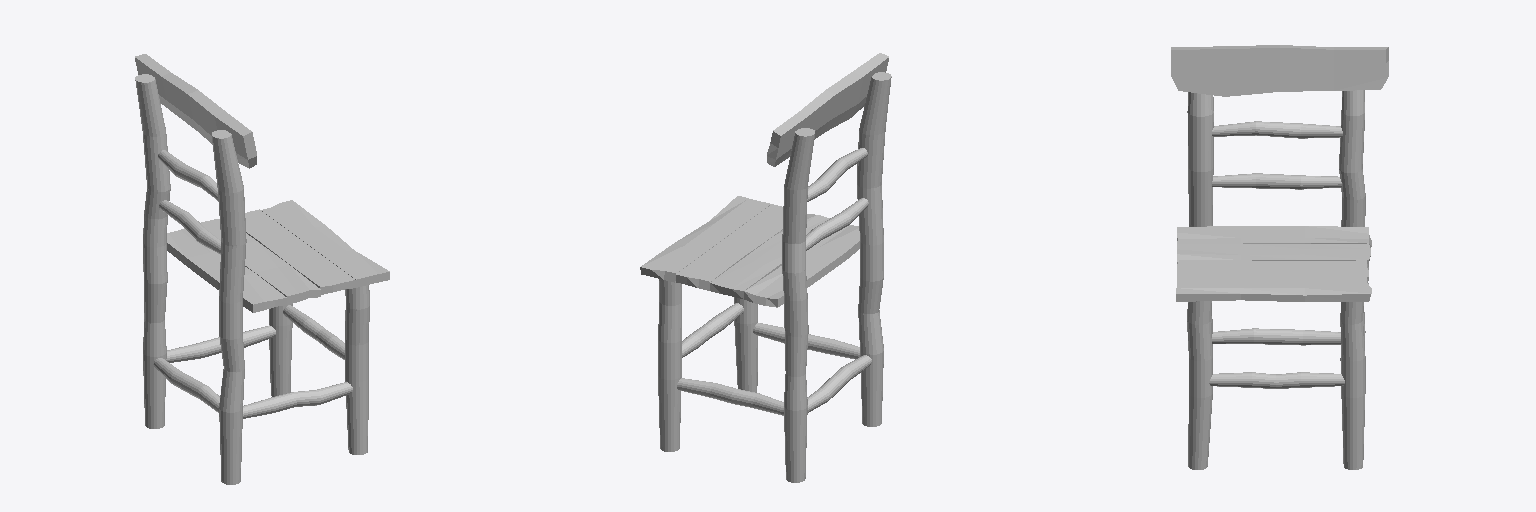
The model's file is chair.obj.
3 views of the same model, side by side, from view 1: azimuth 30°, elevation 25°; view 2: azimuth 150°, elevation 25°; view 3: azimuth 270°, elevation 25° (orthographic).
Visible parts, largest first — view 1: Cylinder.003; view 2: Cylinder.003; view 3: Cylinder.003.
Boxes of the visible parts, x1,y1,x2,y2 form: Cylinder.003: [135, 54, 389, 484]; Cylinder.003: [640, 53, 891, 482]; Cylinder.003: [1171, 45, 1388, 469].
Size of the model in its own units: 1.15 by 2.4 by 1.31.